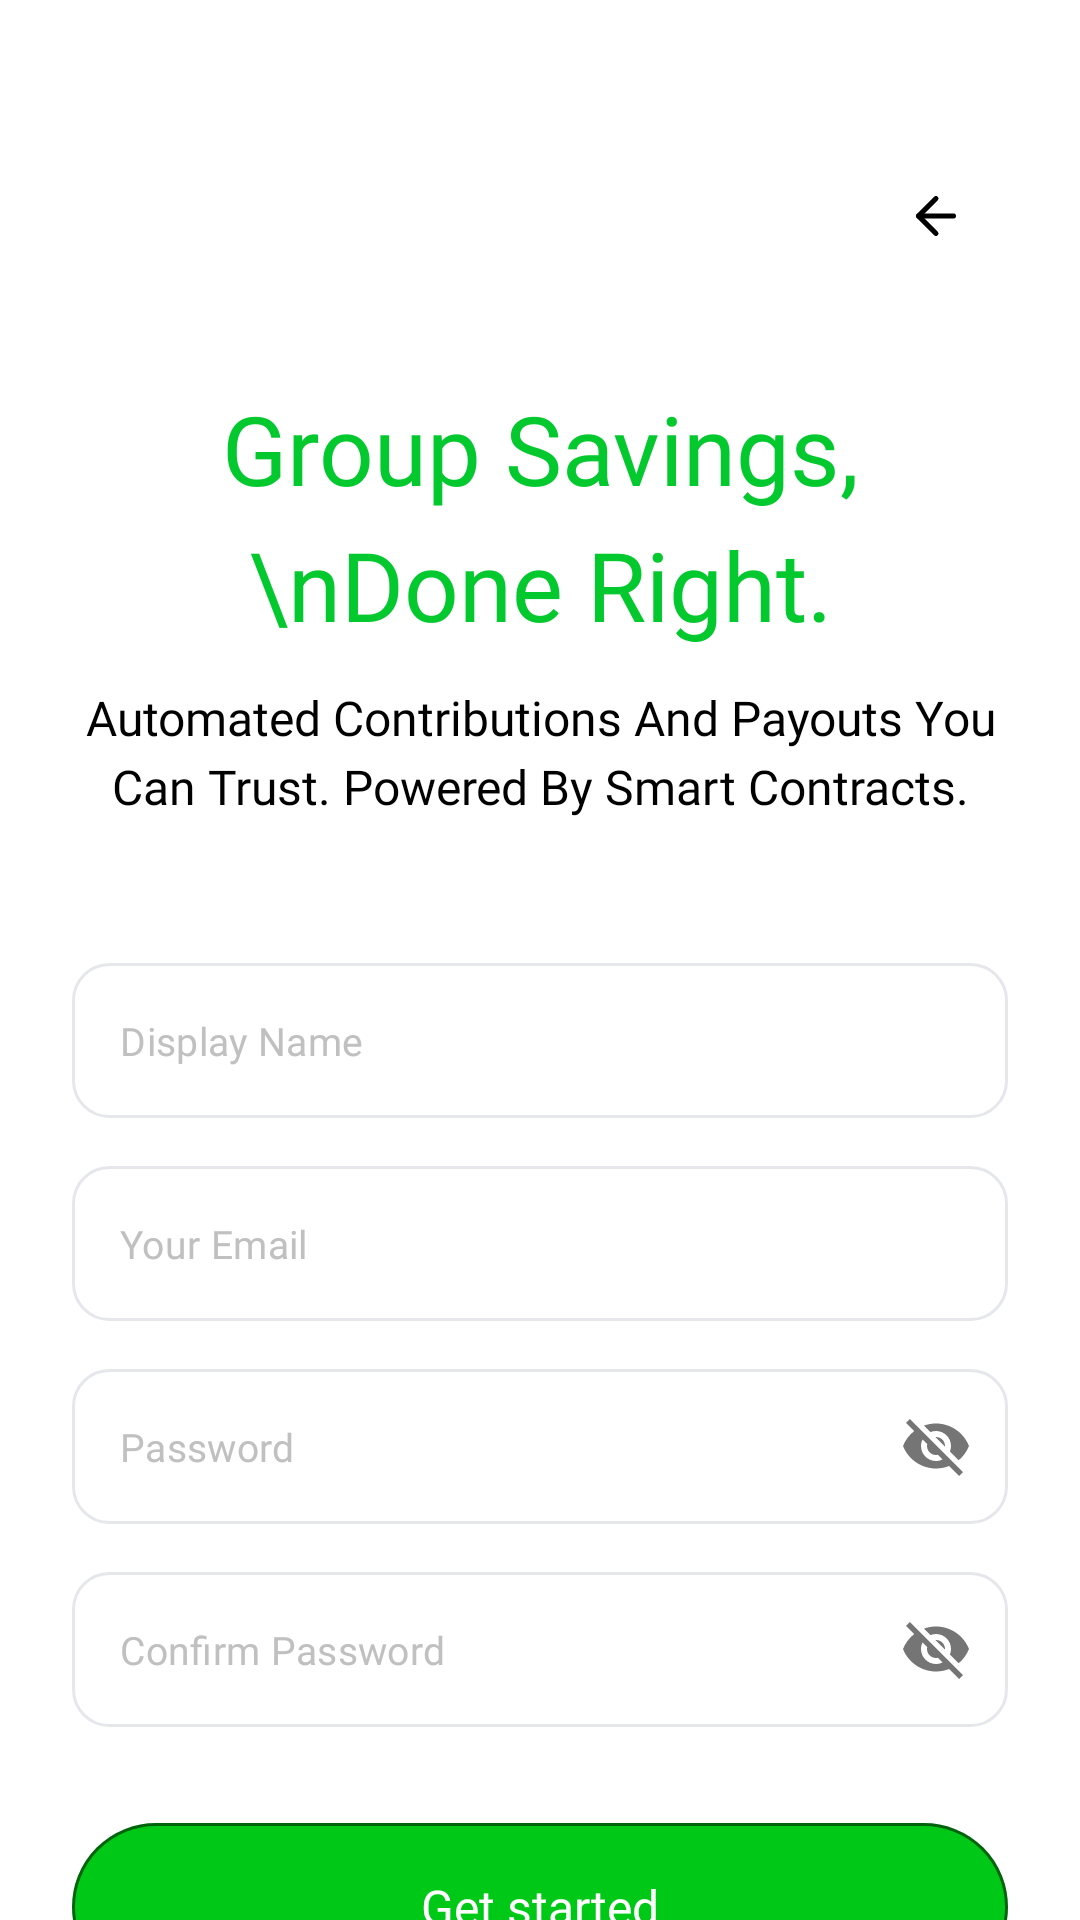

Point at icon controls on the screen. Image size 1080*1920, points as (x,y).
Go back: (936,216)
